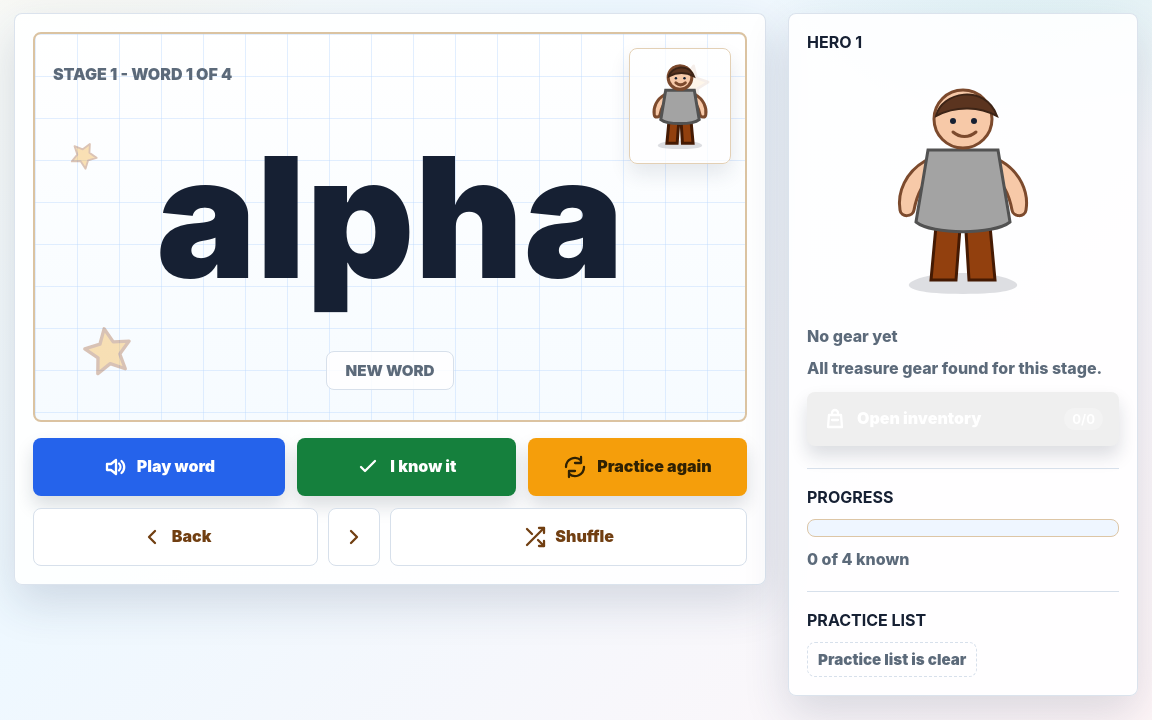
Test: App integration › finishes a failed single-candidate quick check by scheduling the next word
The width and height of the screenshot is (1152, 720).
(page scrolled)
Click the button "I know it".
click(406, 467)  # box x1=297 y1=438 x2=516 y2=496
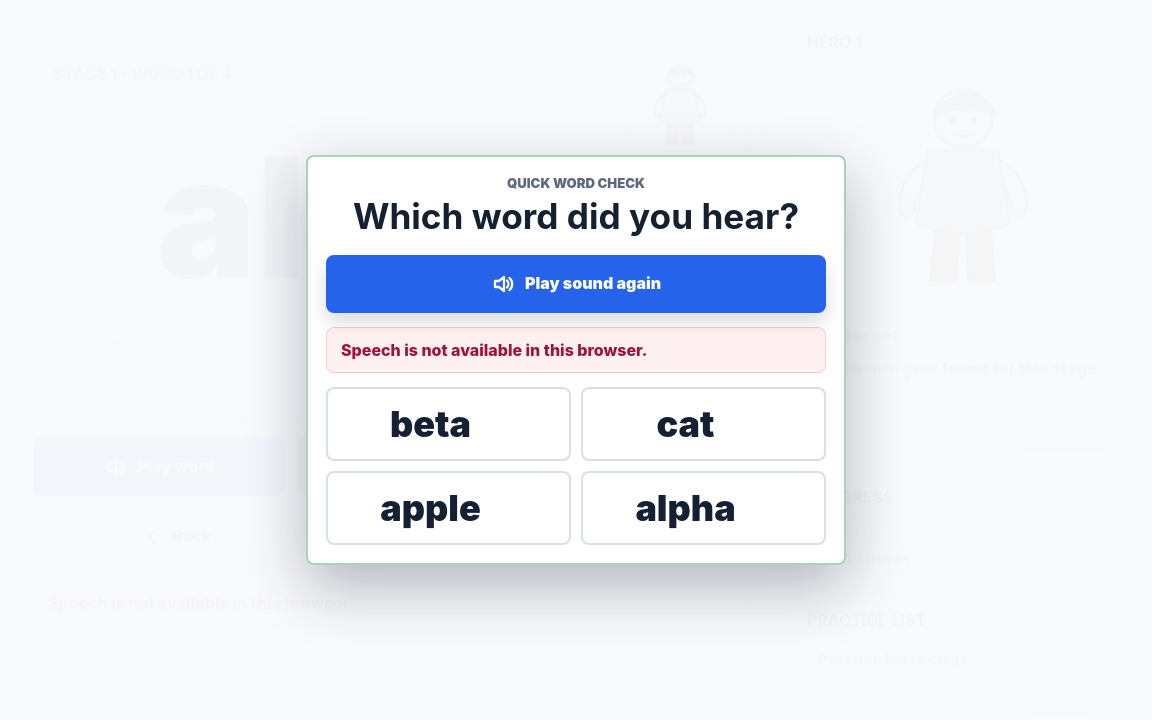
Click the button "beta".
click(448, 424)  # box x1=326 y1=387 x2=571 y2=461
Wait 4900 ms
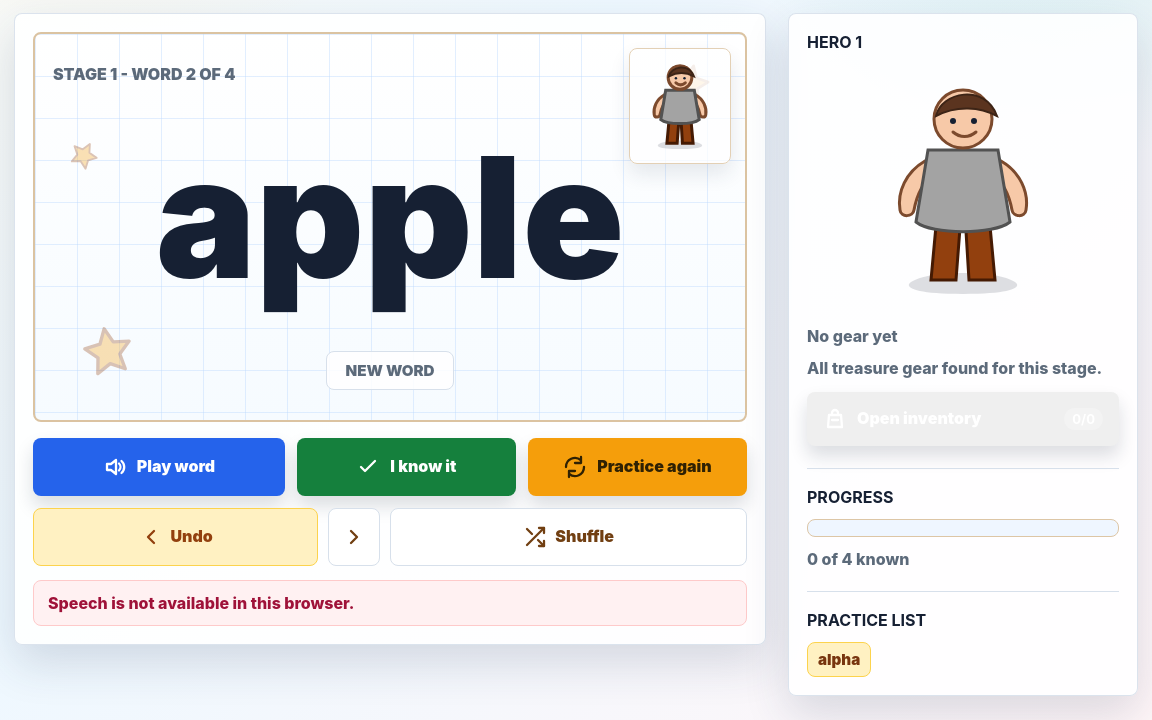
Expected: the heading "Which word did you hear?" is gone
